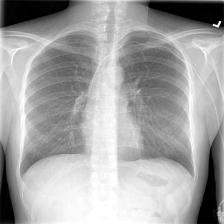normal: (18, 24, 198, 188)
